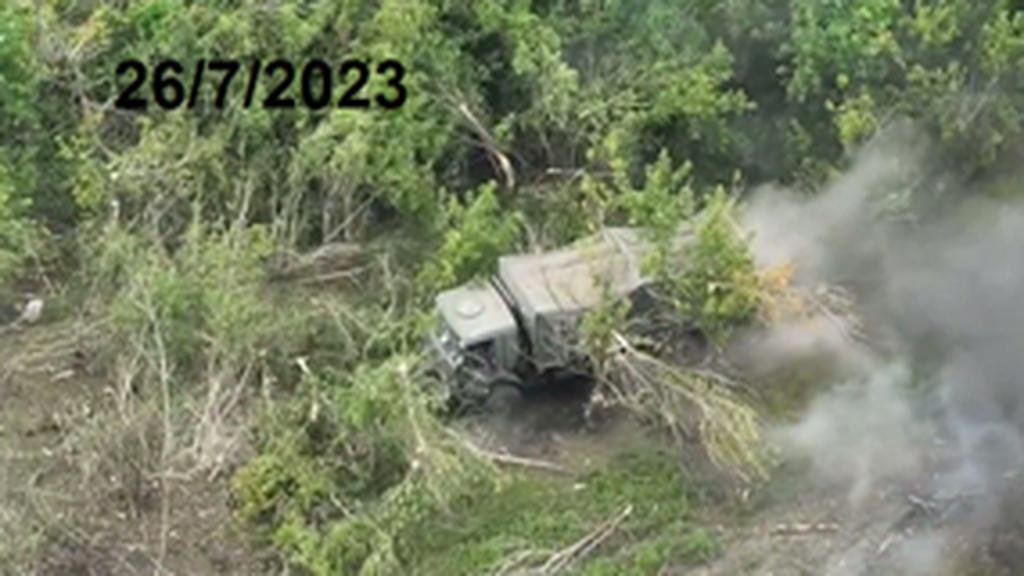TRUCK: (402, 202, 752, 422)
